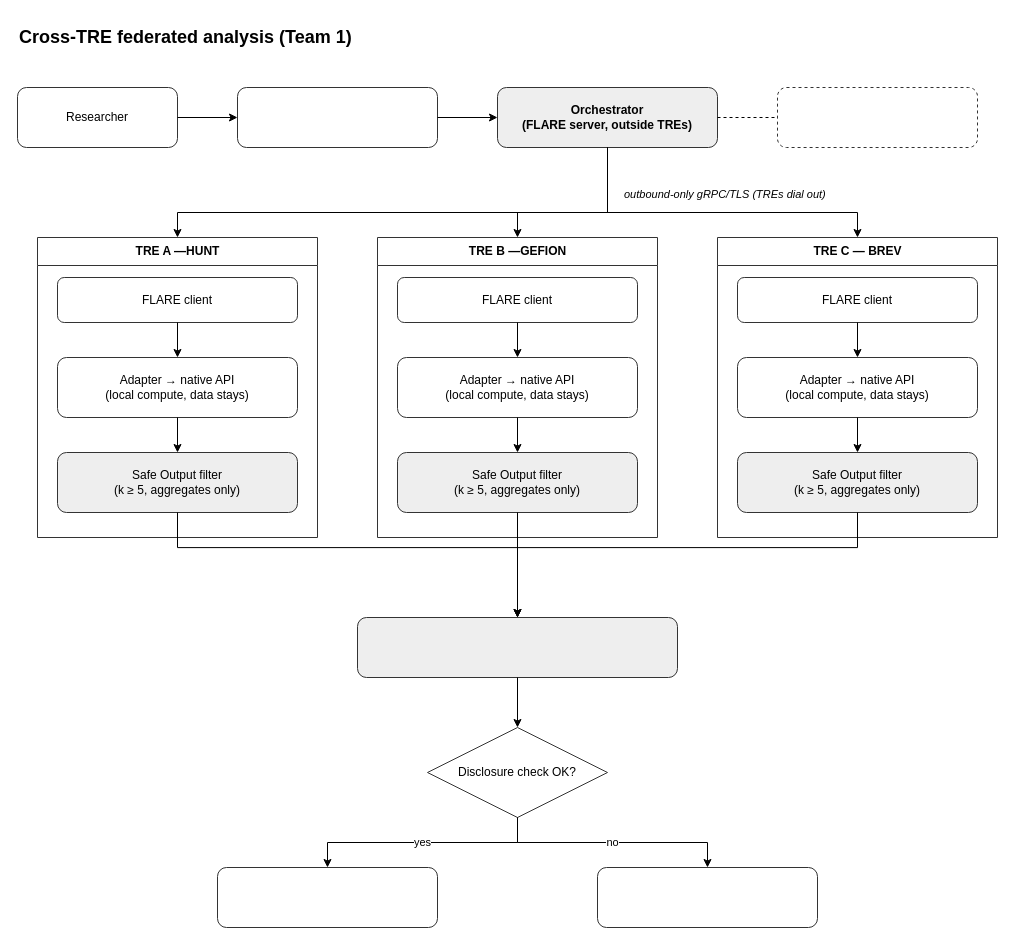
The diagram is 1015 pixels wide and 945 high, and some of its shapes have lost their labels. Here are the shapes that lost their labels. From the top down, the centre of each, then its label:
At (337,117): "Analysis spec (JSON) canonical variable names".
At (877,117): "Harmonisation map canonical → local columns".
At (517,647): "Aggregation on server (federated statistics → later: feature selection / logreg)".
At (327,897): "Results + audit log → GitHub".
At (707,897): "Reject, refine spec".
